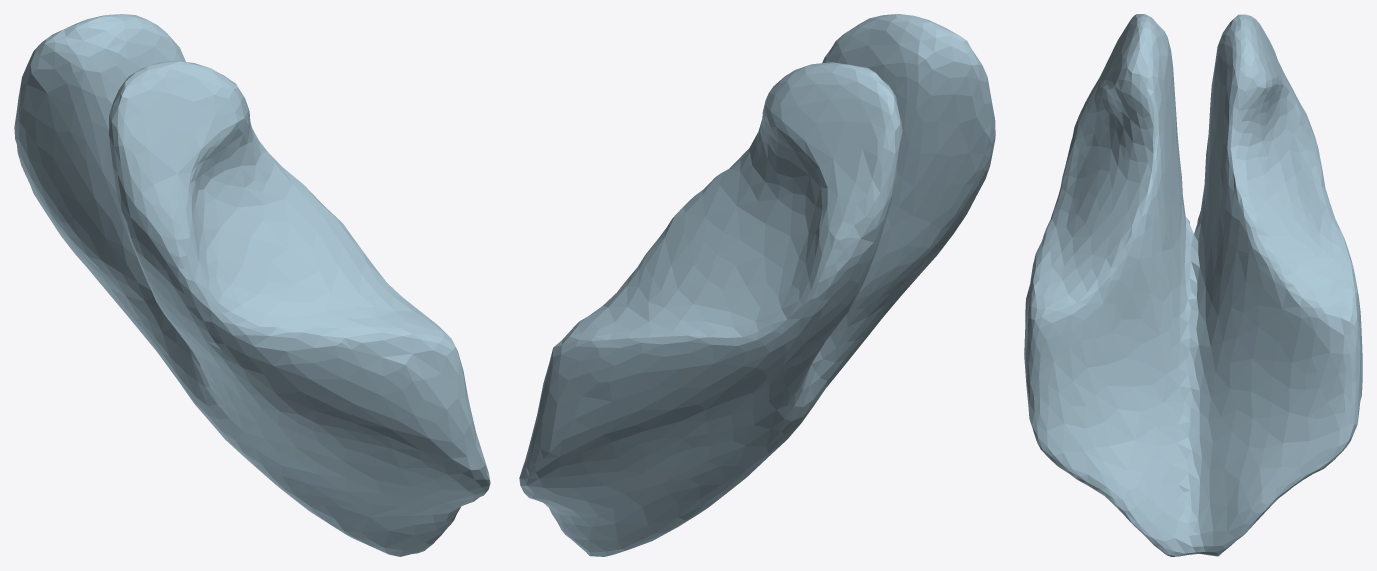
3 renders of one model, left to right at view 1: azimuth 30°, elevation 25°; view 2: azimuth 150°, elevation 25°; view 3: azimuth 270°, elevation 25°, orthographic. The views are drawn at different scales.
Parts seen in each view (by area): view 1: 258.obj; view 2: 258.obj; view 3: 258.obj.
Boxes of the visible parts, box(x1,y1,x2,y2) form: 258.obj: box(14, 14, 490, 556); 258.obj: box(519, 14, 995, 556); 258.obj: box(1024, 14, 1362, 556).
Bounding box in the file's own units: 1703 × 2687 × 1889.
